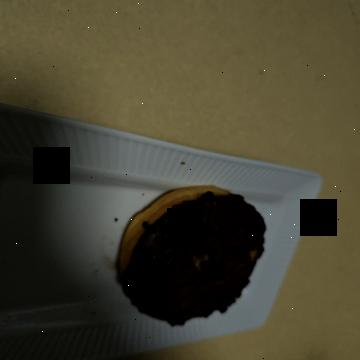doughnut: (172, 92, 333, 265)
